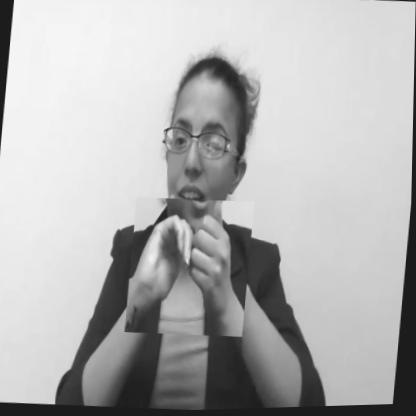HowAreYou: (126, 195, 255, 341)
